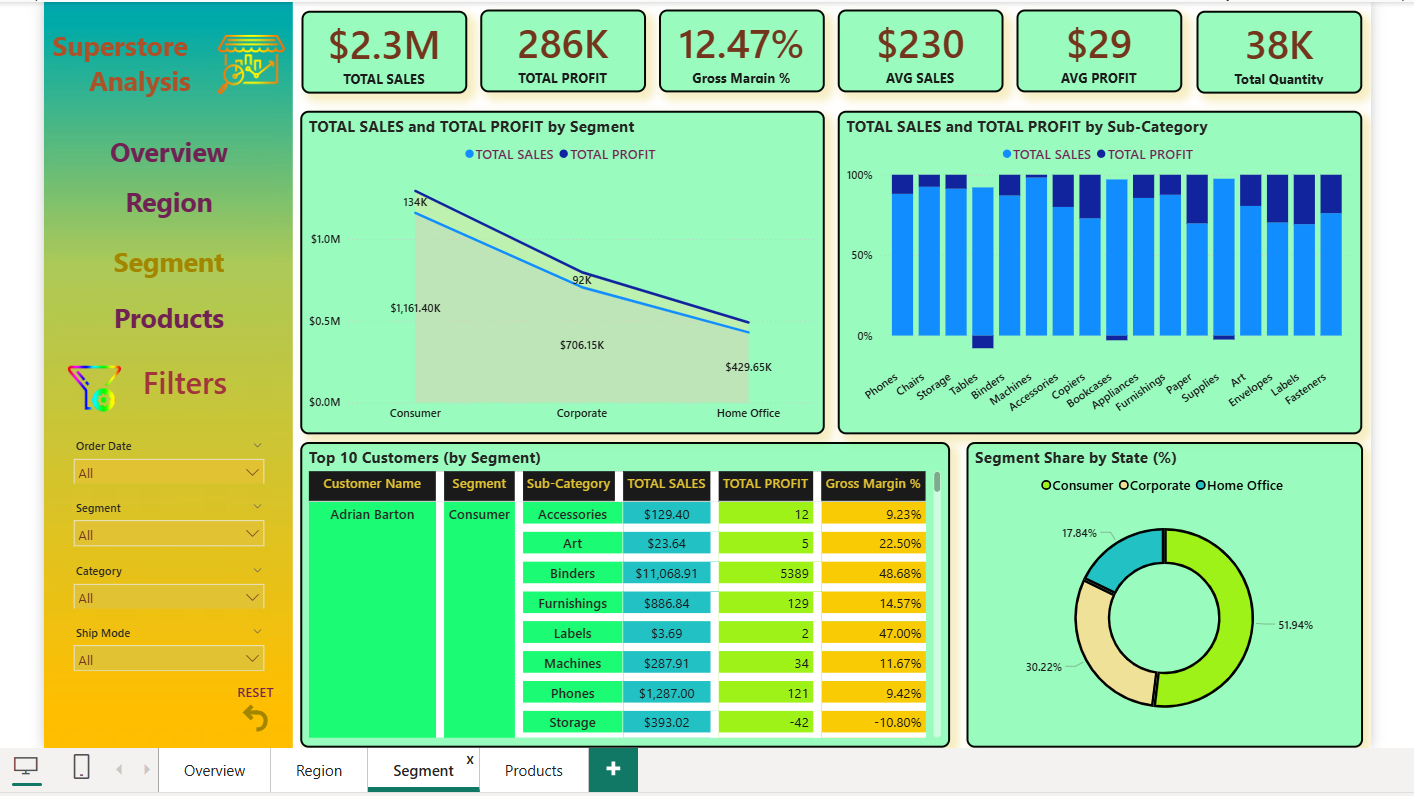

The page's visual inventory and layout, read from the dashboard file:
{"tool":"powerbi","page":{"name":"Segment","canvas":[1600,900],"ordinal":2},"visuals":[{"type":"card","fields":{"Values":["Superstore.Gross Margin %"]},"box":[742,9.5,200,100],"z":0},{"type":"image","title":"Analysis icon","box":[205,30,90.6,90.6],"z":0,"group":"g2"},{"type":"textbox","title":"Filter","box":[118.8,432.5,130,55],"z":0,"group":"g1"},{"type":"card","fields":{"Values":["Superstore.TOTAL PROFIT"]},"box":[526,9.4,200,100],"z":1000},{"type":"textbox","title":"Title","box":[0,30,200,90],"z":1000,"group":"g2"},{"type":"image","title":"Filter icon","box":[25,438.3,70.3,55],"z":1000,"group":"g1"},{"type":"card","fields":{"Values":["Superstore.TOTAL SALES"]},"box":[310,9.9,200,100],"z":2000},{"type":"card","fields":{"Values":["Superstore.AVG SALES"]},"box":[958,9.6,200,100],"z":3000},{"type":"card","fields":{"Values":["Superstore.AVG PROFIT"]},"box":[1174,9.8,200,100],"z":4000},{"type":"card","fields":{"Values":["Superstore.Total Quantity"]},"box":[1390,10,200,100],"z":5000},{"type":"actionButton","title":"RESET","box":[220,820,70,60],"z":6000},{"type":"slicer","title":"Ship Mode Slicer","fields":{"Values":["Superstore.Ship Mode"]},"box":[25,746.9,250,60.9],"z":7000},{"type":"slicer","title":"Category Slicer","fields":{"Values":["Superstore.Category"]},"box":[25,672.3,250,59.4],"z":8000},{"type":"slicer","title":"Segment slicer","fields":{"Values":["Superstore.Segment"]},"box":[25,596.2,250,60.9],"z":9000},{"type":"slicer","title":"Order date","fields":{"Values":["Superstore.Order Date"]},"box":[25,521.6,250,59.4],"z":10000},{"type":"group","id":"g1","title":"Filter name and icon","box":[25,432.5,223.8,60.8],"z":11000},{"type":"actionButton","title":"Products","box":[25,351.9,250,50],"z":12000},{"type":"actionButton","title":"Segment","box":[25,279,250,67.2],"z":13000},{"type":"actionButton","title":"Region","box":[25,206,250,67.2],"z":14000},{"type":"actionButton","title":"Overview","box":[25,150.3,250,50],"z":15000},{"type":"group","id":"g2","title":"Title name and icon","box":[0,30,295.6,90.6],"z":16000},{"type":"stackedAreaChart","fields":{"Category":["Superstore.Segment"],"Y":["Superstore.TOTAL SALES","Superstore.TOTAL PROFIT"]},"box":[309.4,131.2,632.8,390.6],"z":17000},{"type":"hundredPercentStackedColumnChart","fields":{"Category":["Superstore.Sub-Category"],"Y":["Superstore.TOTAL SALES","Superstore.TOTAL PROFIT"]},"box":[957.8,131.2,632.8,390.6],"z":18000},{"type":"pivotTable","title":"Top 10 Customers (by Segment)","fields":{"Rows":["Superstore.Customer Name","Superstore.Segment","Superstore.Sub-Category"],"Values":["Superstore.TOTAL SALES","Superstore.TOTAL PROFIT","Superstore.Gross Margin %"]},"box":[309.4,531.2,784.4,368.8],"z":19000},{"type":"donutChart","title":"Segment Share by State (%)","fields":{"Category":["Superstore.Segment"],"Y":["CountNonNull(Superstore.State)"]},"box":[1112.5,531.2,478.1,368.8],"z":20000}]}

Visuals, with their boxes on the page's 1600x900 design canvas (x1, y1, x2, y2). These are canvas units, not pixel positions in the 1414x796 screenshot, which may show the page scaled, cropped or inside an application window:
card - Superstore.Gross Margin %: x1=742, y1=10, x2=942, y2=110
"Analysis icon" image: x1=205, y1=30, x2=296, y2=121
"Filter" textbox: x1=119, y1=432, x2=249, y2=488
card - Superstore.TOTAL PROFIT: x1=526, y1=9, x2=726, y2=109
"Title" textbox: x1=0, y1=30, x2=200, y2=120
"Filter icon" image: x1=25, y1=438, x2=95, y2=493
card - Superstore.TOTAL SALES: x1=310, y1=10, x2=510, y2=110
card - Superstore.AVG SALES: x1=958, y1=10, x2=1158, y2=110
card - Superstore.AVG PROFIT: x1=1174, y1=10, x2=1374, y2=110
card - Superstore.Total Quantity: x1=1390, y1=10, x2=1590, y2=110
"RESET" actionButton: x1=220, y1=820, x2=290, y2=880
"Ship Mode Slicer" slicer: x1=25, y1=747, x2=275, y2=808
"Category Slicer" slicer: x1=25, y1=672, x2=275, y2=732
"Segment slicer" slicer: x1=25, y1=596, x2=275, y2=657
"Order date" slicer: x1=25, y1=522, x2=275, y2=581
"Filter name and icon" group: x1=25, y1=432, x2=249, y2=493
"Products" actionButton: x1=25, y1=352, x2=275, y2=402
"Segment" actionButton: x1=25, y1=279, x2=275, y2=346
"Region" actionButton: x1=25, y1=206, x2=275, y2=273
"Overview" actionButton: x1=25, y1=150, x2=275, y2=200
"Title name and icon" group: x1=0, y1=30, x2=296, y2=121
stackedAreaChart - Superstore.Segment x Superstore.TOTAL SALES: x1=309, y1=131, x2=942, y2=522
hundredPercentStackedColumnChart - Superstore.Sub-Category x Superstore.TOTAL SALES: x1=958, y1=131, x2=1591, y2=522
"Top 10 Customers (by Segment)" pivotTable: x1=309, y1=531, x2=1094, y2=900
"Segment Share by State (%)" donutChart: x1=1112, y1=531, x2=1591, y2=900
